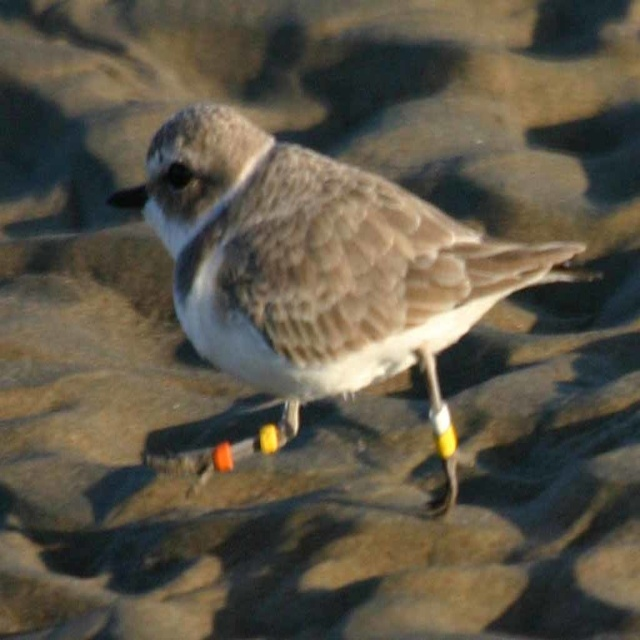Sparrow: (106, 98, 585, 518)
